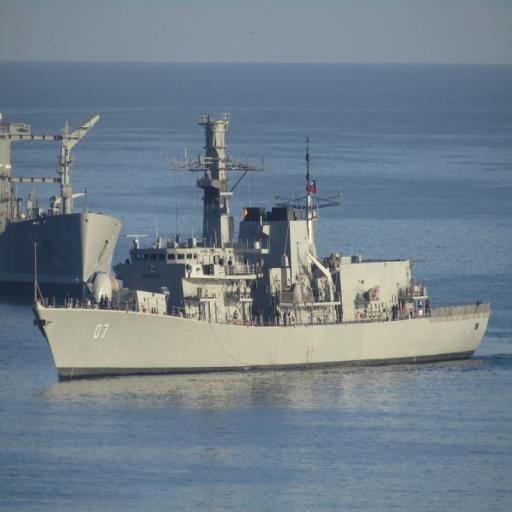Fragata: (33, 115, 493, 387)
